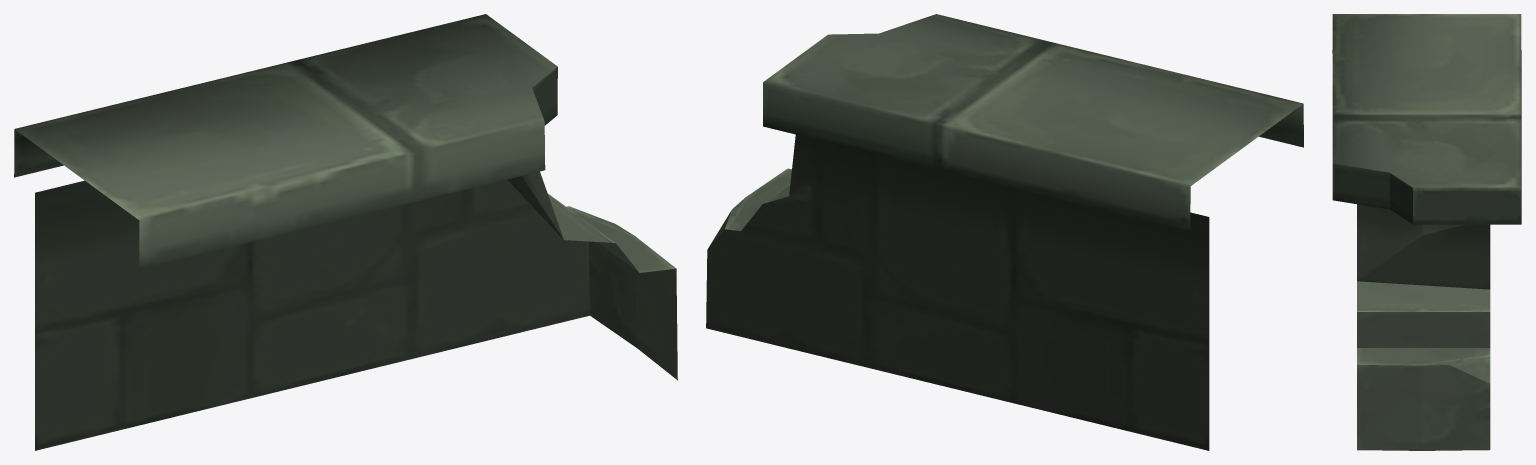
The model's file is yw_newshanlin_shoulder_003.FBX.
3 views of the same model, side by side, from view 1: azimuth 30°, elevation 25°; view 2: azimuth 150°, elevation 25°; view 3: azimuth 270°, elevation 25° (orthographic). The views are drawn at different scales.
Parts seen in each view (by area): view 1: yw_newshanlin_shoulder_003; view 2: yw_newshanlin_shoulder_003; view 3: yw_newshanlin_shoulder_003.
Boxes of the visible parts, x1=… form: yw_newshanlin_shoulder_003: x1=14, y1=14, x2=677, y2=450; yw_newshanlin_shoulder_003: x1=706, y1=14, x2=1303, y2=450; yw_newshanlin_shoulder_003: x1=1332, y1=14, x2=1521, y2=450.
Bounding box in the file's own units: 151 × 58.84 × 79.66.
